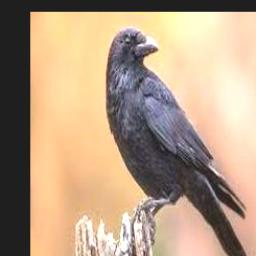Crow: (107, 27, 251, 256)
